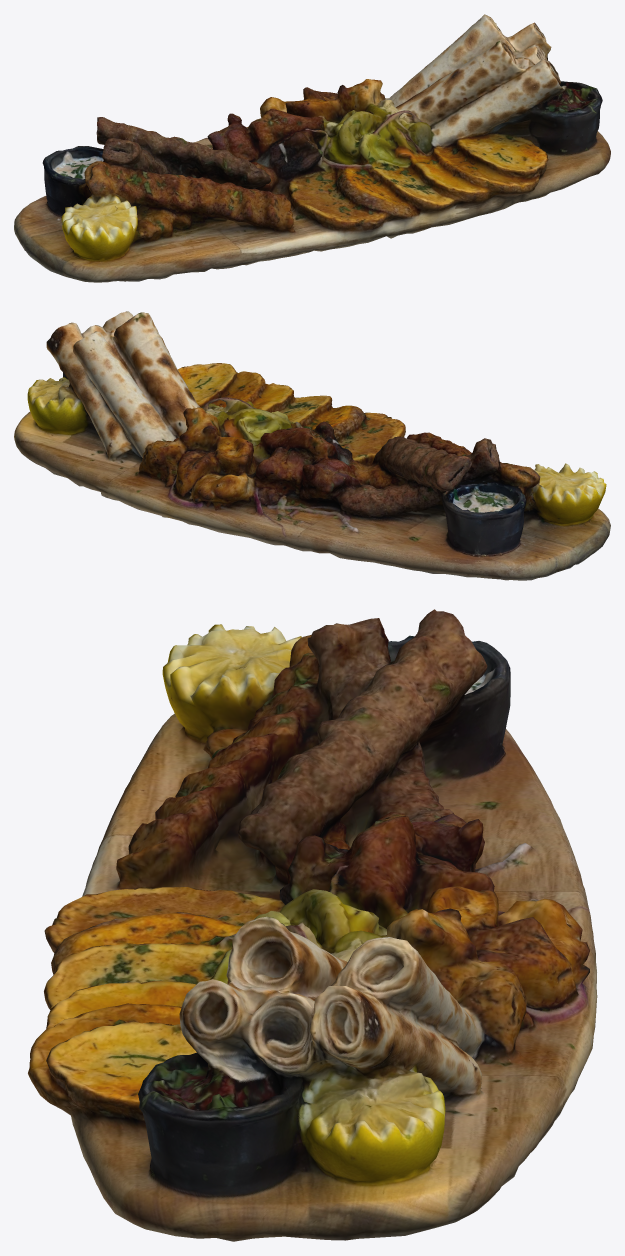
The model's file is plateau-4-personnes.glb.
The picture shows the model from 3 angles, top to bottom: view 1: azimuth 30°, elevation 25°; view 2: azimuth 150°, elevation 25°; view 3: azimuth 270°, elevation 25°; orthographic projection. The views are drawn at different scales.
Parts seen in each view (by area): view 1: ObjectCapture; view 2: ObjectCapture; view 3: ObjectCapture.
Boxes of the visible parts, x1,y1,x2,y2 form: ObjectCapture: (14, 14, 610, 282); ObjectCapture: (14, 311, 610, 580); ObjectCapture: (28, 609, 597, 1241).
Bounding box in the file's own units: 0.5269 × 0.115 × 0.2382.
Materials: 1 (1 with a texture image).
